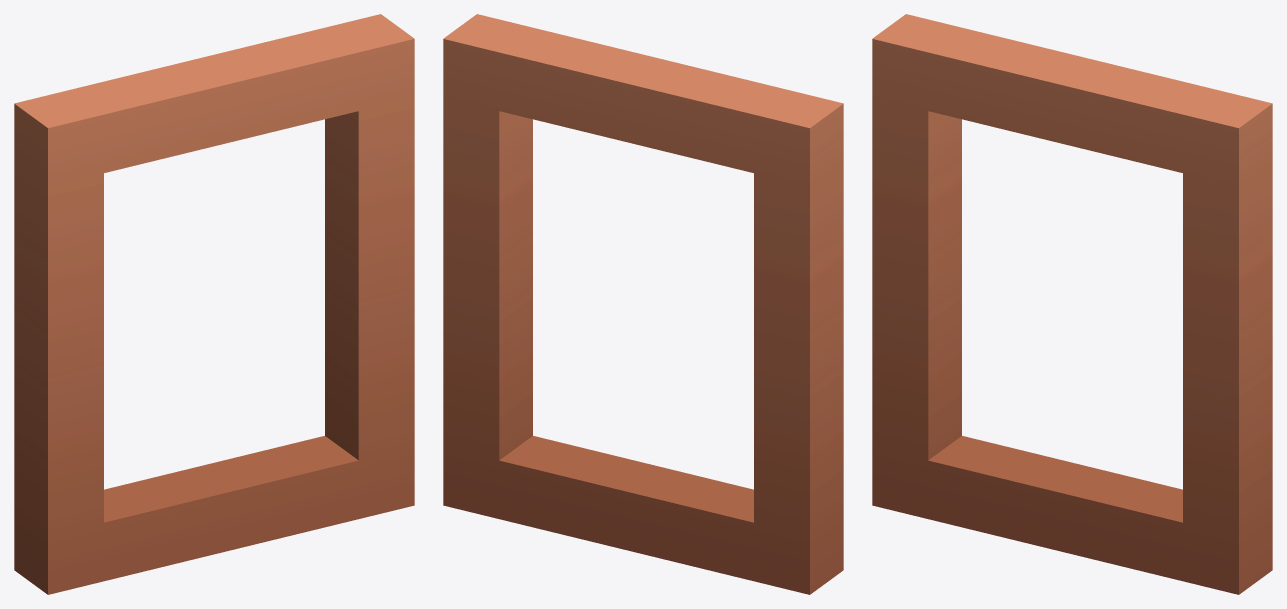
Rendered from window-brown.glb.
3 views of the same model, side by side, from view 1: azimuth 30°, elevation 25°; view 2: azimuth 150°, elevation 25°; view 3: azimuth 330°, elevation 25° (orthographic).
Visible parts, largest first — view 1: window-brown; view 2: window-brown; view 3: window-brown.
Boxes of the visible parts, x1=… form: window-brown: x1=14, y1=14, x2=414, y2=594; window-brown: x1=443, y1=14, x2=843, y2=594; window-brown: x1=872, y1=14, x2=1272, y2=594.
Size of the model in its own units: 0.3125 by 0.38 by 0.05.
1 material, 1 textured.
